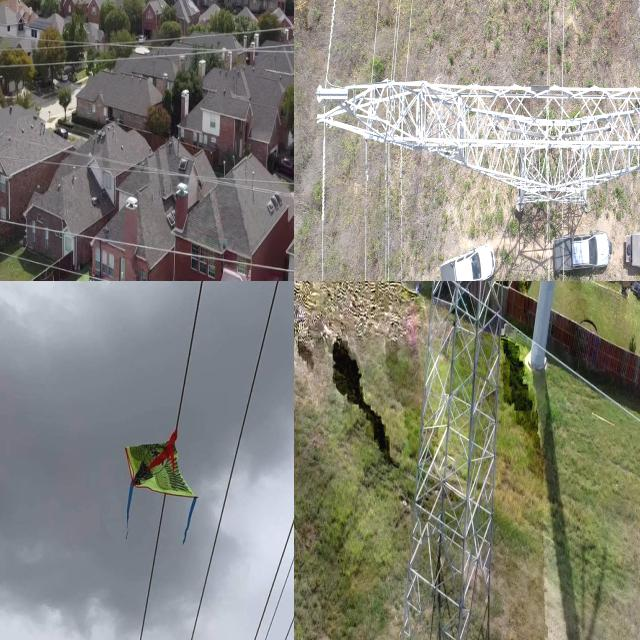杆塔: (302, 52, 640, 242), (389, 281, 513, 640)
植被遮挡: (117, 395, 207, 569)
